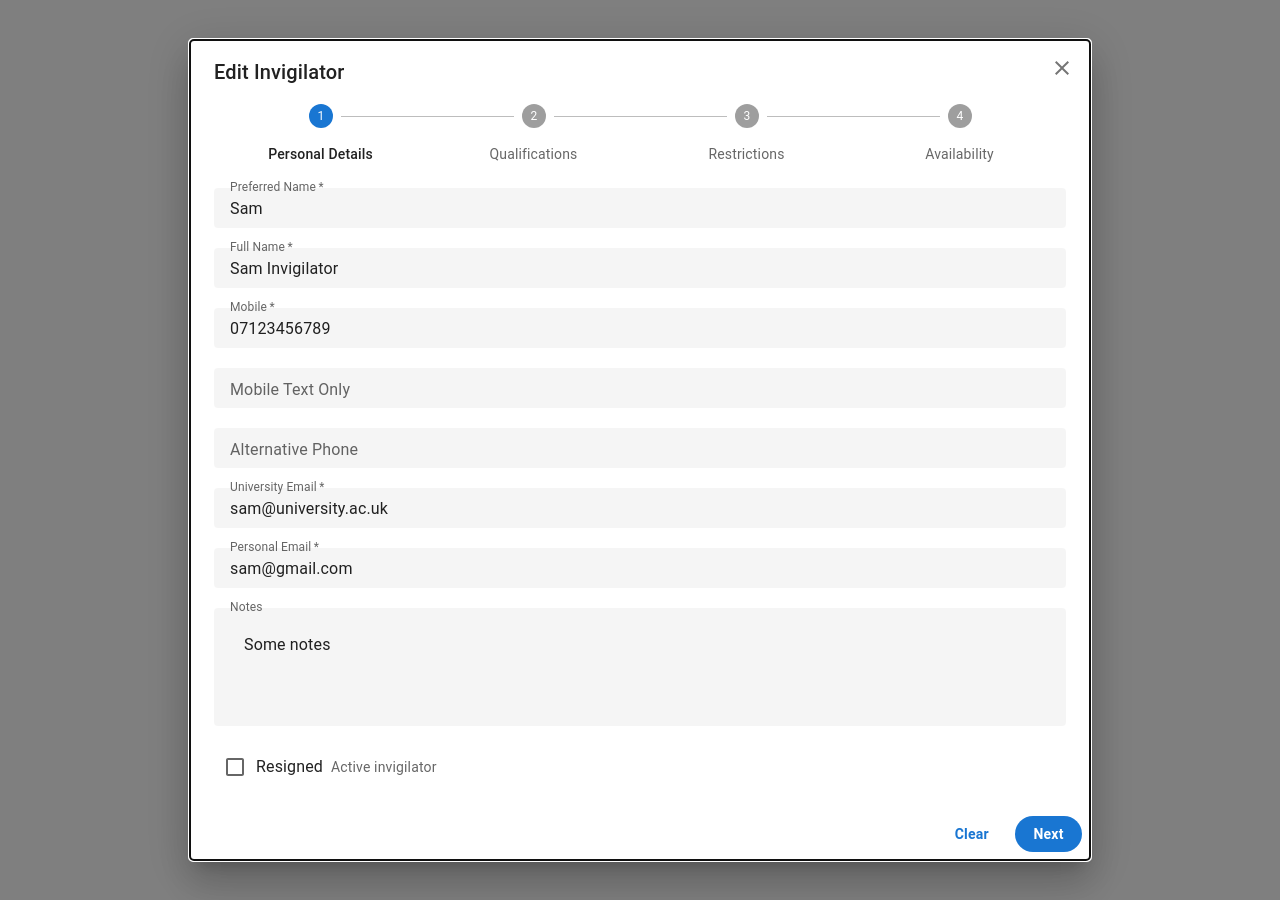
Test: EditInvigilatorDialog › disables Next button when mandatory fields are missing
This screenshot has width=1280, height=900.
Clear the field labelled "Preferred Name *" at (640, 208), box [230, 197, 1050, 220]
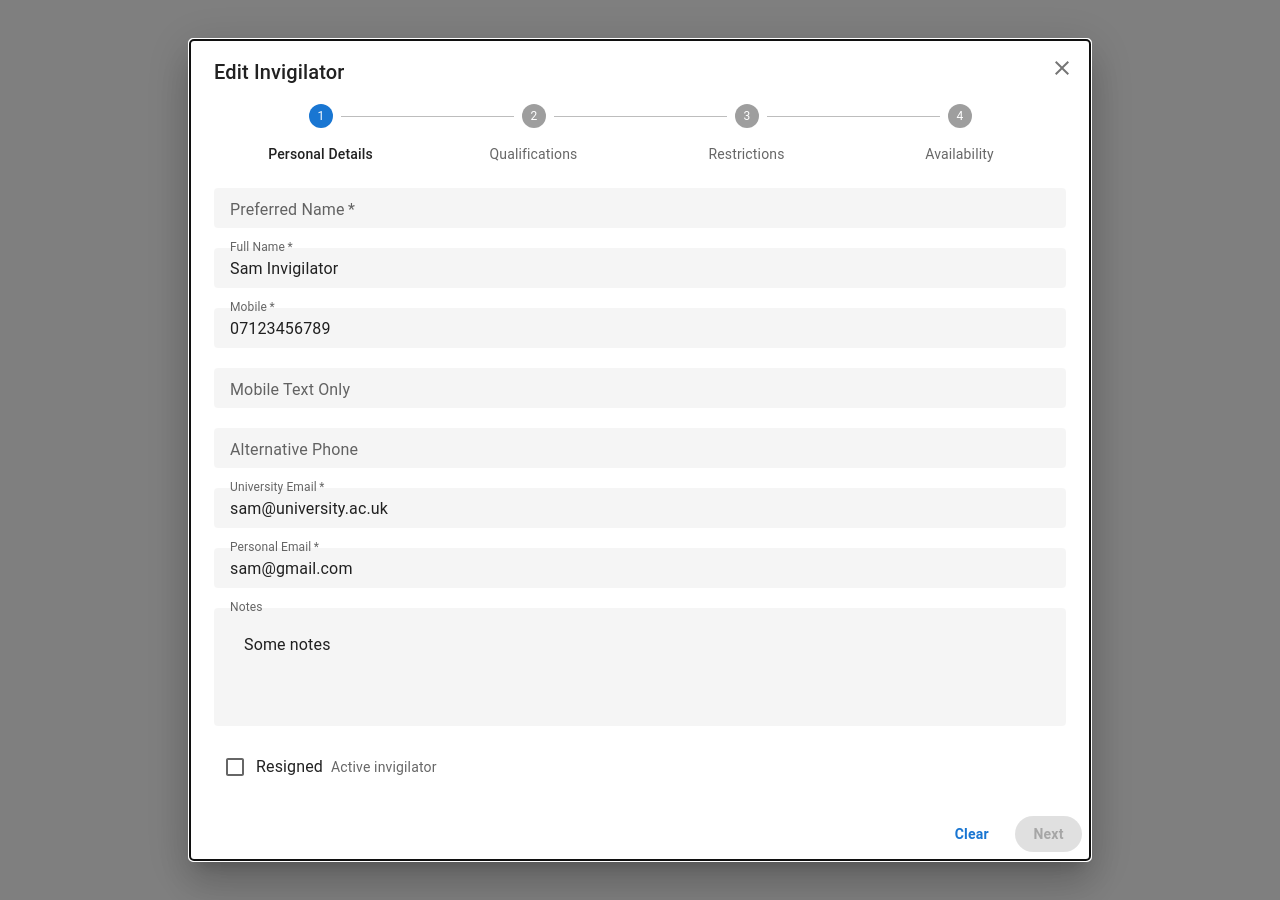
Expected: the button "Next" is disabled, [1015, 816, 1082, 852]
